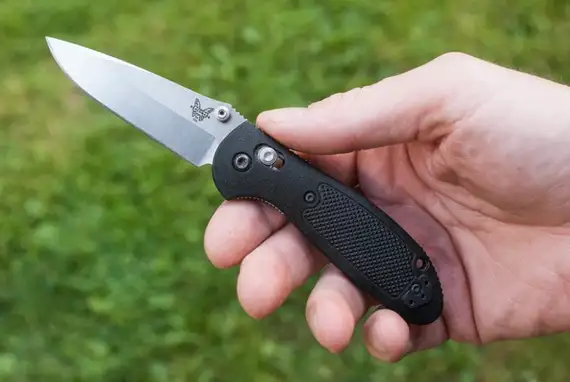knife: (28, 21, 455, 340)
